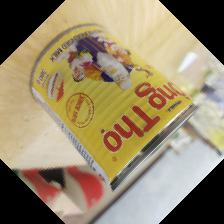Ong_tho: (27, 21, 201, 193)
